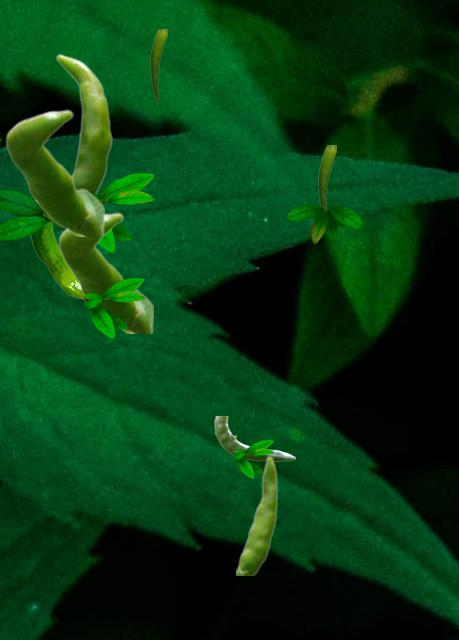green_chili: (5, 109, 103, 235), (58, 212, 152, 332), (55, 53, 112, 193), (236, 455, 277, 574), (30, 223, 83, 298), (214, 416, 294, 460), (150, 29, 166, 103), (318, 145, 335, 208)
